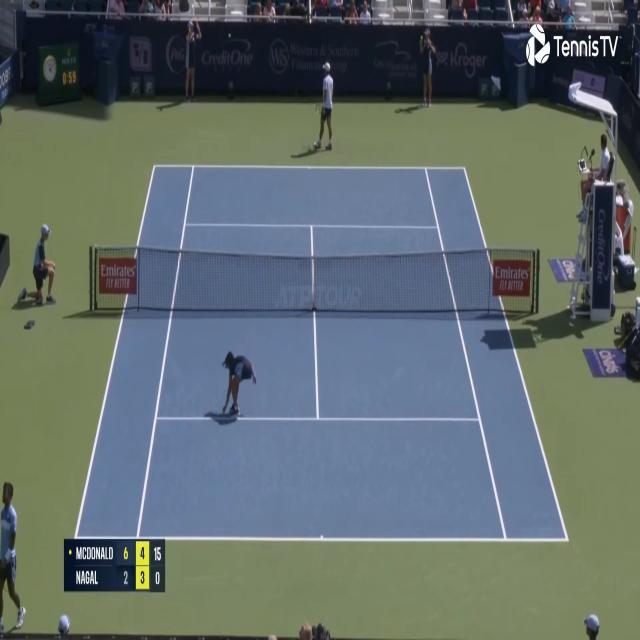tennis-player: (0, 478, 28, 636), (311, 58, 335, 155)
